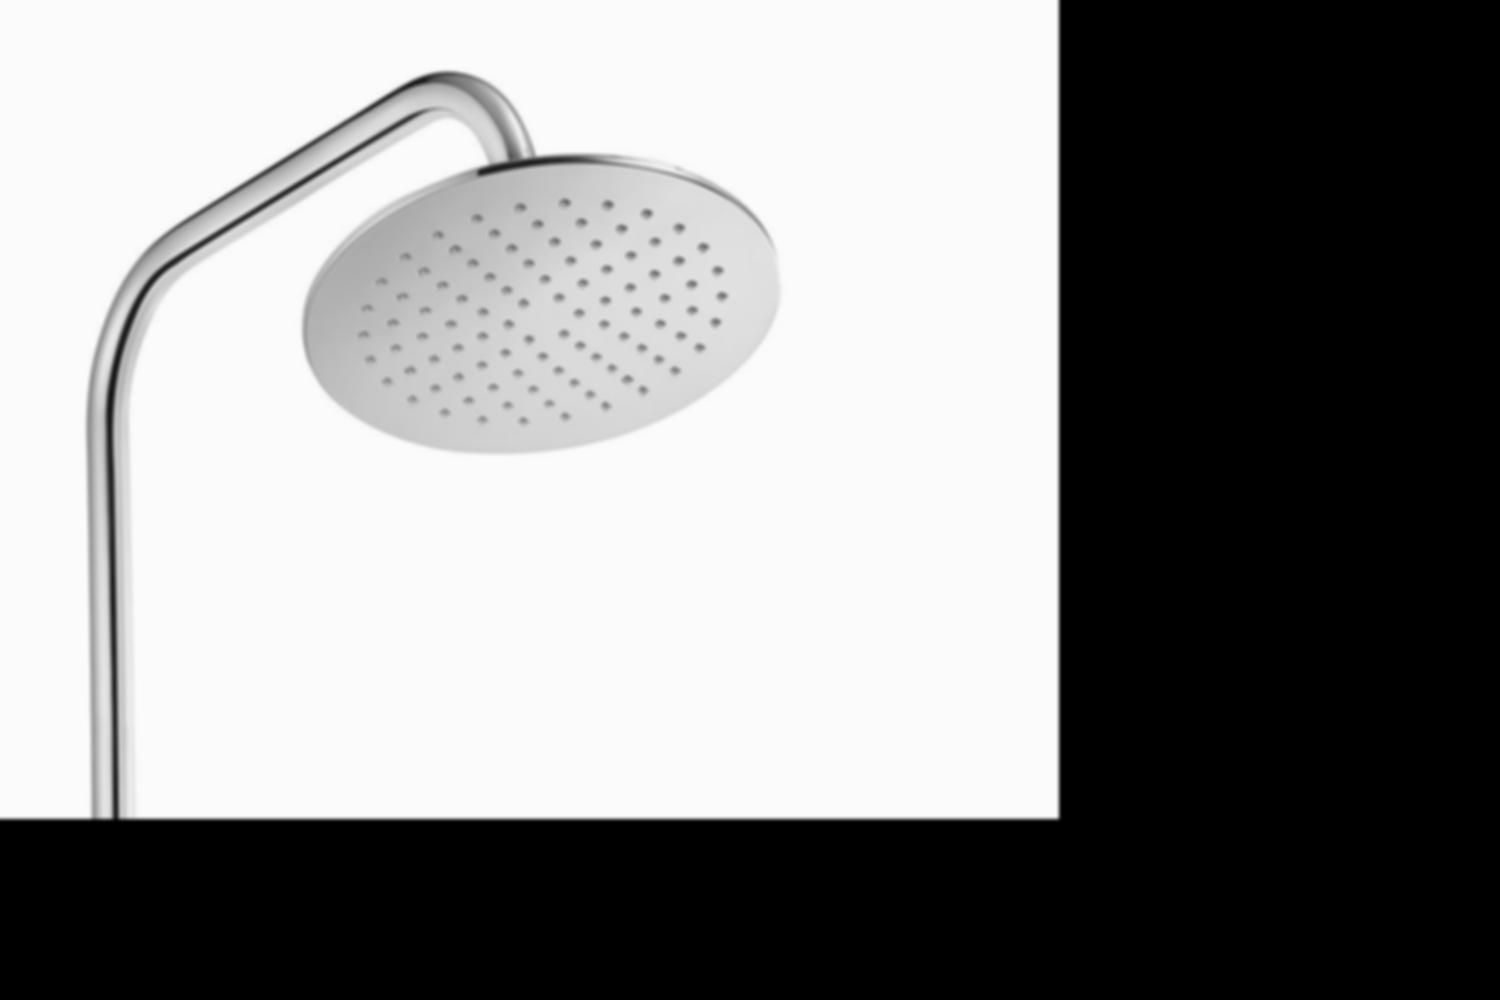Ducha: (0, 0, 876, 818)
